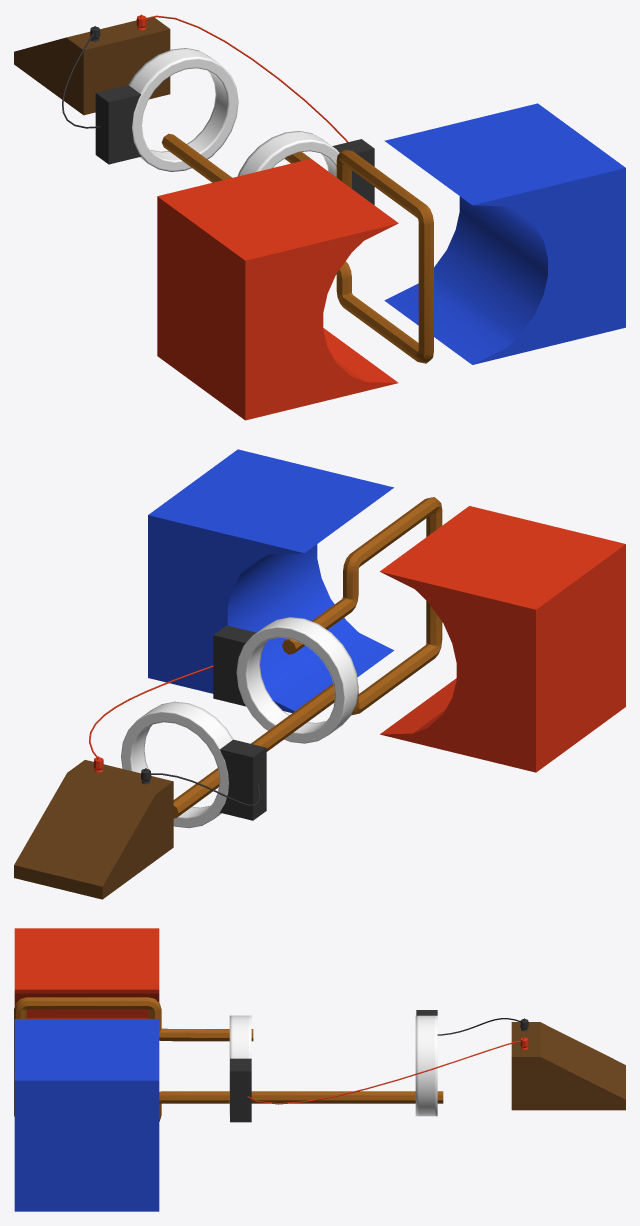
The picture shows the model from 3 angles, top to bottom: view 1: azimuth 30°, elevation 25°; view 2: azimuth 150°, elevation 25°; view 3: azimuth 270°, elevation 25°; orthographic projection. The views are drawn at different scales.
Parts seen in each view (by area): view 1: Red, Blue, Cube.001, bar.001, magnet2, black2, magnet1, black1; view 2: Red, Blue, Cube.001, bar.001, magnet1, magnet2, black2, black1; view 3: Blue, Red, Cube.001, bar.001, magnet2, black1, magnet1, BezierCurve.001.
Boxes of the visible parts, bbox=[...] form: Red: bbox=[157, 159, 398, 420]; Blue: bbox=[384, 103, 625, 364]; Cube.001: bbox=[14, 16, 170, 115]; bar.001: bbox=[161, 133, 433, 363]; magnet2: bbox=[128, 48, 238, 171]; black2: bbox=[95, 85, 140, 164]; magnet1: bbox=[237, 131, 339, 177]; black1: bbox=[332, 139, 374, 205]; Red: bbox=[380, 506, 625, 772]; Blue: bbox=[148, 449, 393, 712]; Cube.001: bbox=[14, 760, 173, 899]; bar.001: bbox=[173, 497, 442, 818]; magnet1: bbox=[236, 617, 358, 743]; magnet2: bbox=[121, 701, 233, 828]; black2: bbox=[220, 739, 266, 820]; black1: bbox=[213, 625, 256, 706]; Blue: bbox=[14, 1019, 159, 1211]; Red: bbox=[14, 928, 159, 1018]; Cube.001: bbox=[511, 1022, 625, 1110]; bar.001: bbox=[14, 997, 443, 1121]; magnet2: bbox=[415, 1015, 437, 1116]; black1: bbox=[230, 1058, 251, 1122]; magnet1: bbox=[229, 1015, 251, 1115]; BezierCurve.001: bbox=[247, 1041, 521, 1104].
Size of the model in its own units: 55.04 by 22.86 by 93.37.
